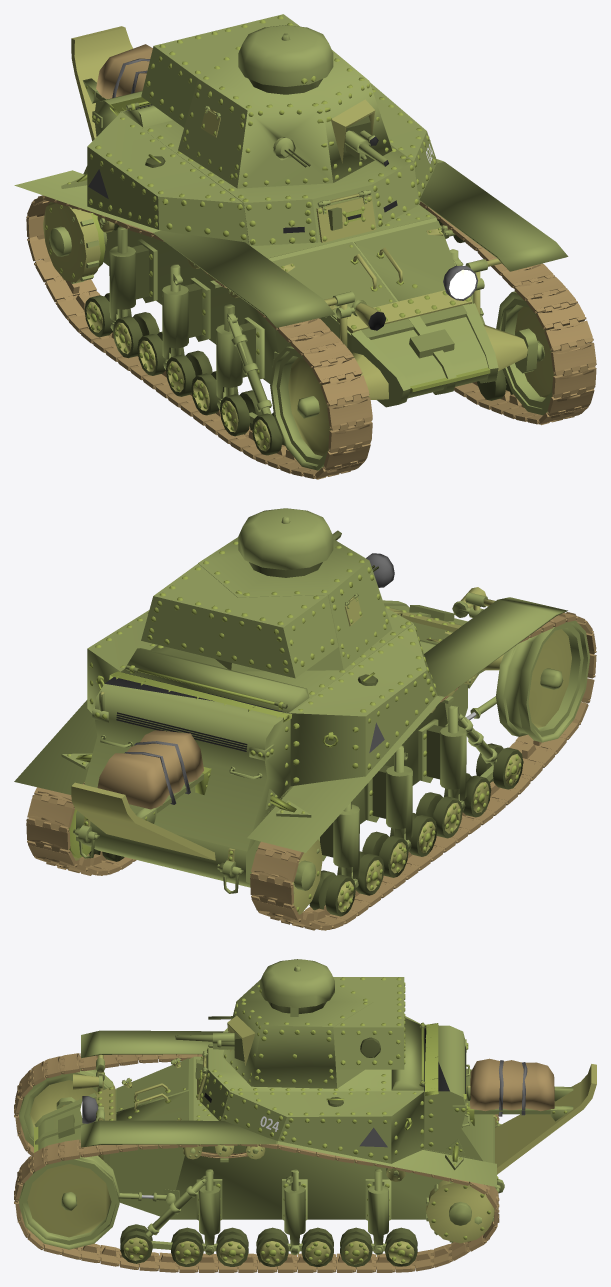
3 views of the same model, one above another, from view 1: azimuth 30°, elevation 25°; view 2: azimuth 150°, elevation 25°; view 3: azimuth 270°, elevation 25° (orthographic). The views are drawn at different scales.
Visible parts, largest first — view 1: polySurface1688; view 2: polySurface1688; view 3: polySurface1688.
Boxes of the visible parts, bbox=[...] form: polySurface1688: bbox=[14, 14, 596, 479]; polySurface1688: bbox=[14, 508, 596, 930]; polySurface1688: bbox=[14, 959, 596, 1272].
Size of the model in its own units: 172 by 182 by 375.
